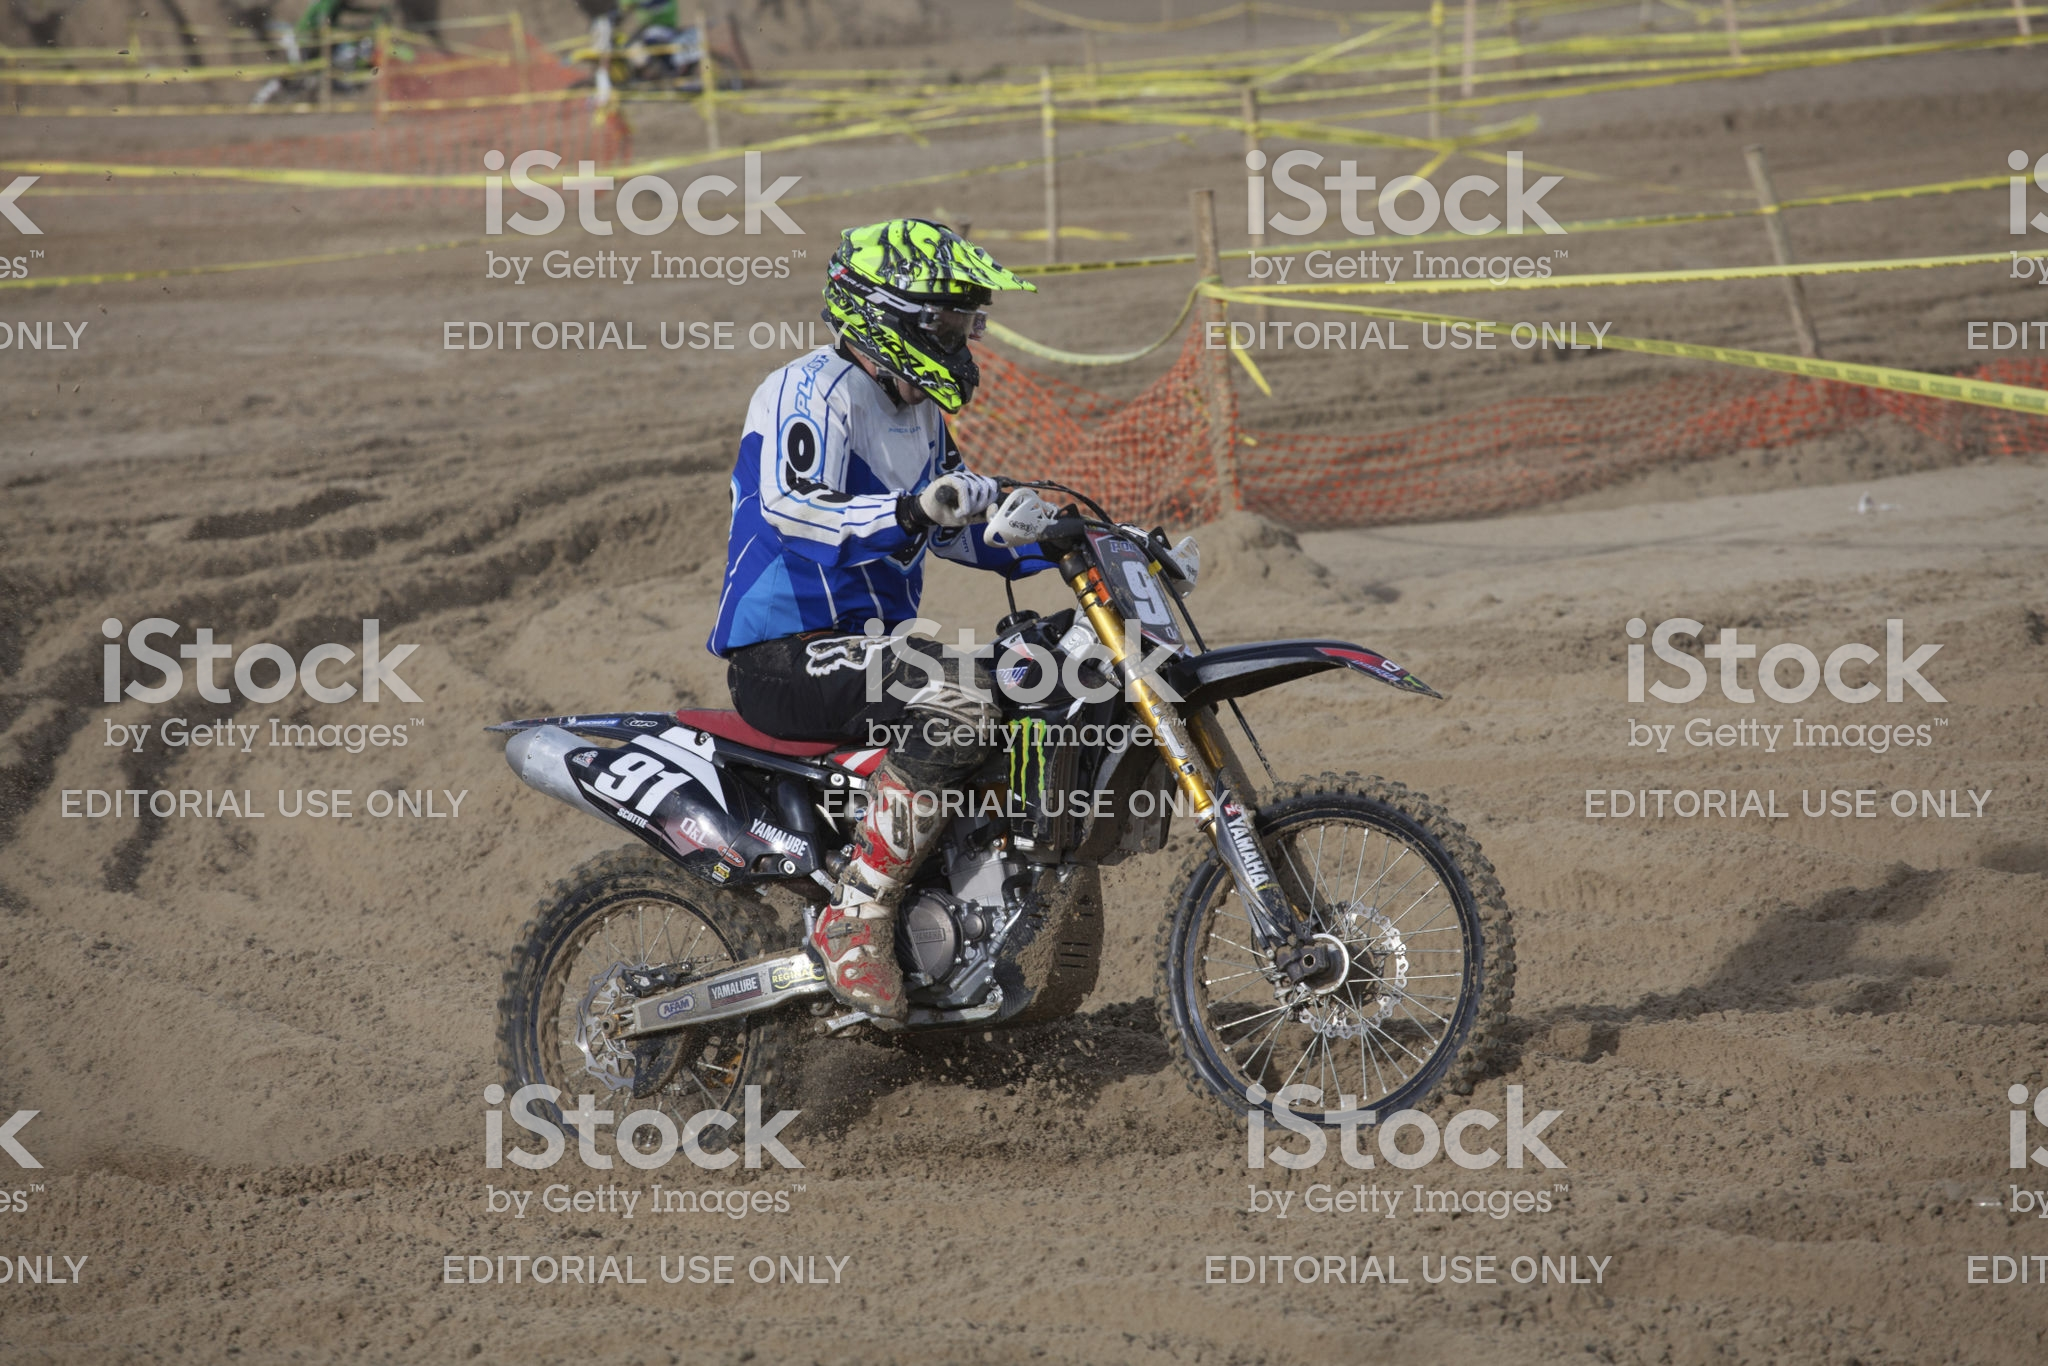helmet: (814, 215, 1019, 406)
